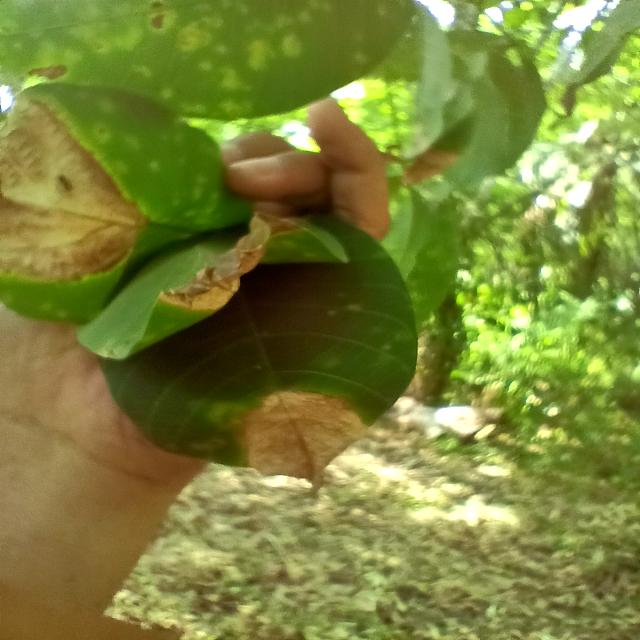Leaf-Blight: (0, 93, 151, 282), (158, 209, 302, 311), (242, 389, 373, 489)
